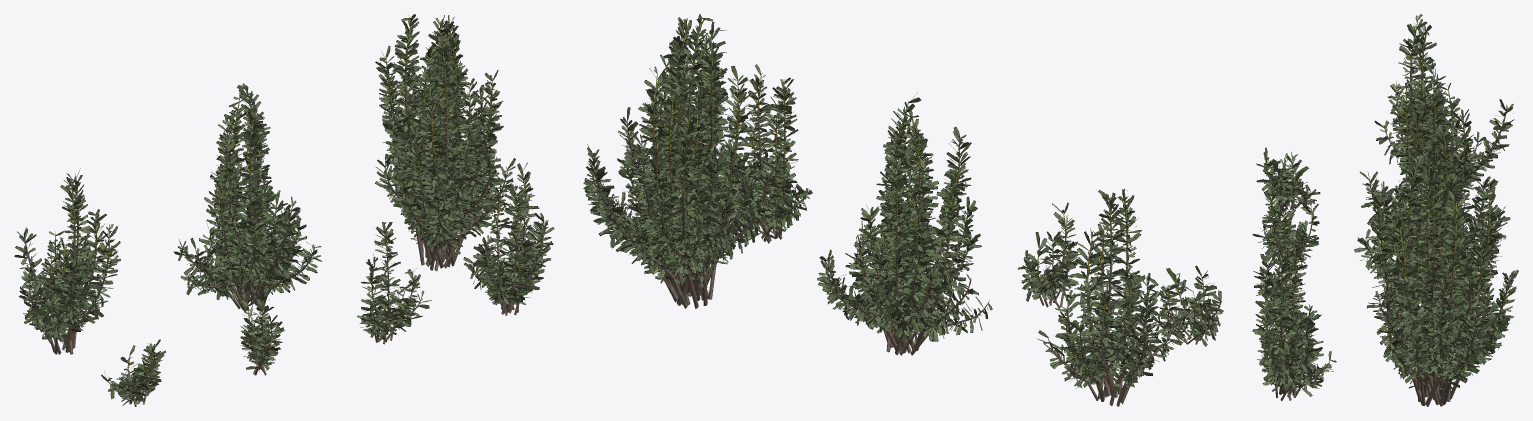
Rendered from othonna_cerarioides_2k.glb.
The picture shows the model from 3 angles, left to right: view 1: azimuth 30°, elevation 25°; view 2: azimuth 150°, elevation 25°; view 3: azimuth 270°, elevation 25°; orthographic projection. The views are drawn at different scales.
Parts seen in each view (by area): view 1: othonna_cerarioides_a; view 2: othonna_cerarioides_a; view 3: othonna_cerarioides_a.
Part boxes in pixels (box(x1,y1,x2,y2)): othonna_cerarioides_a: box(14, 14, 554, 406); othonna_cerarioides_a: box(583, 14, 1223, 406); othonna_cerarioides_a: box(1252, 14, 1518, 406).
Bounding box in the file's own units: 3.97 × 1.97 × 1.8.
Materials: 2 (2 with a texture image).
